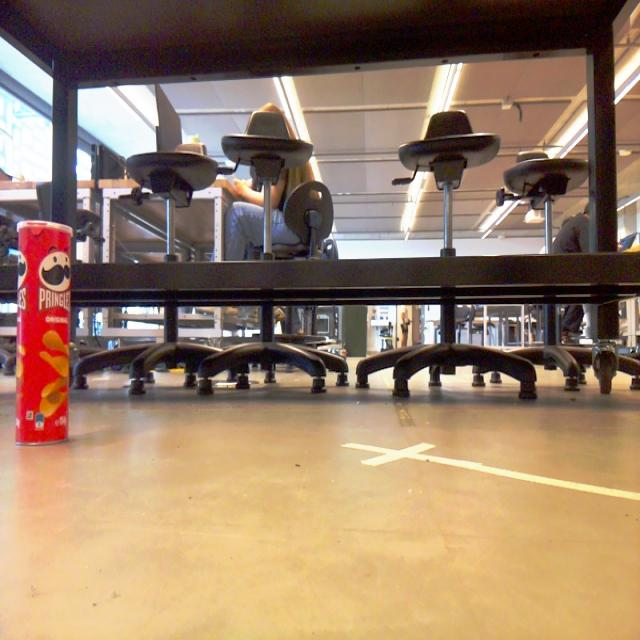redpringles: (0, 208, 96, 452)
